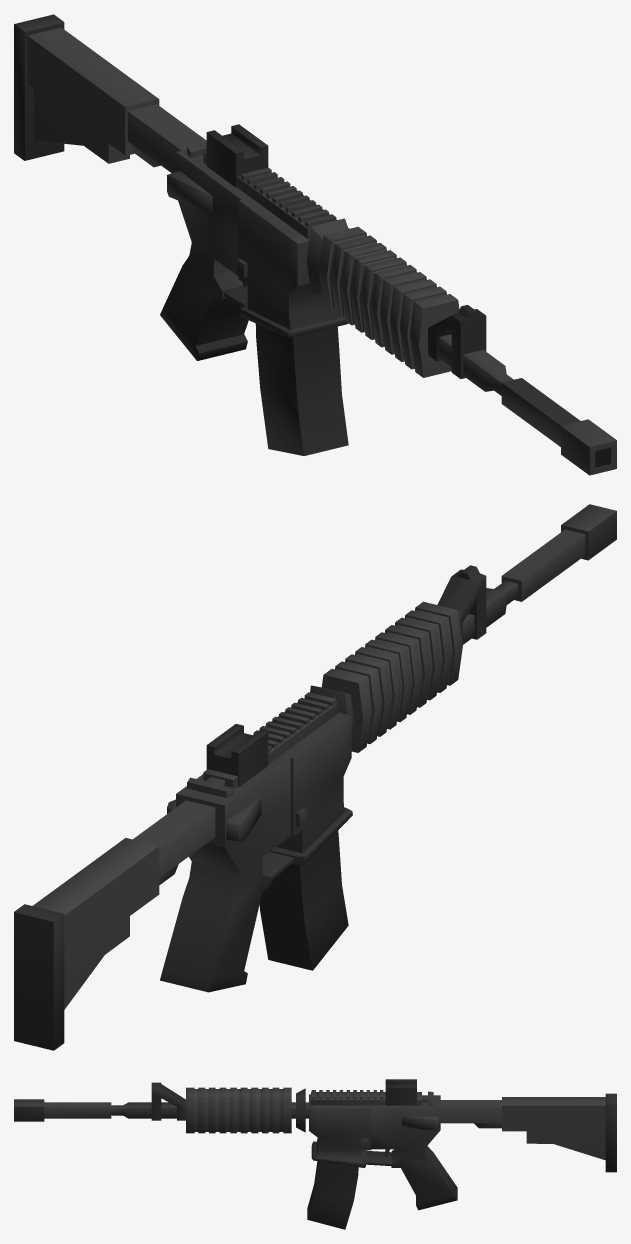
File: Enemy_Gun.FBX
The picture shows the model from 3 angles, top to bottom: view 1: azimuth 30°, elevation 25°; view 2: azimuth 150°, elevation 25°; view 3: azimuth 270°, elevation 25°; orthographic projection. The views are drawn at different scales.
Visible parts, largest first — view 1: Enemy_Gun-1; view 2: Enemy_Gun-1; view 3: Enemy_Gun-1.
Boxes of the visible parts, box(x1,y1,x2,y2) form: Enemy_Gun-1: box(14, 14, 616, 475); Enemy_Gun-1: box(14, 504, 616, 1050); Enemy_Gun-1: box(14, 1079, 616, 1229).
Bounding box in the file's own units: 1.8 × 6.09 × 23.62.
1 material, 1 textured.
